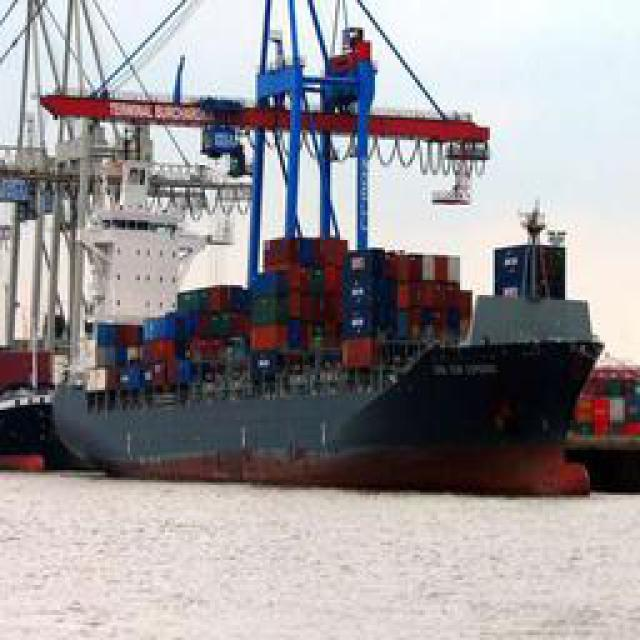Ship: (6, 1, 602, 504)
